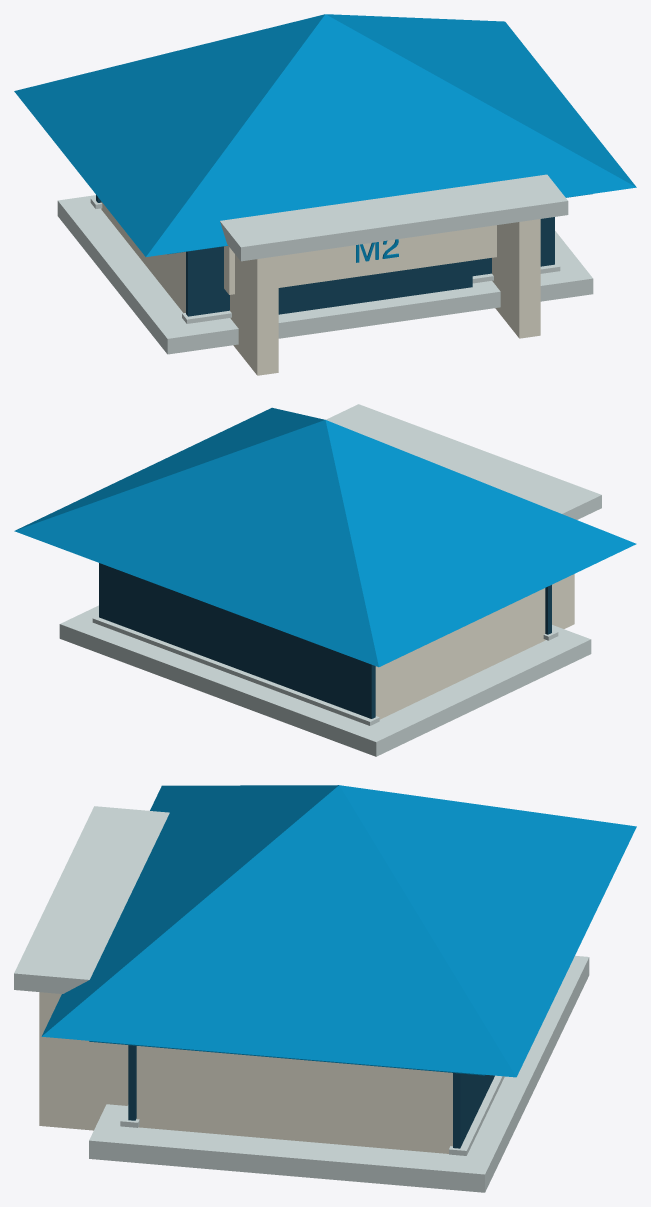
File: mahad-m2.glb
3 renders of one model, top to bottom at view 1: azimuth 30°, elevation 25°; view 2: azimuth 150°, elevation 25°; view 3: azimuth 270°, elevation 25°, orthographic. The views are drawn at different scales.
Visible parts, largest first — view 1: Mahad_M2_blue, Mahad_M2_trim, Mahad_M2_ivory, Mahad_M2_glass; view 2: Mahad_M2_blue, Mahad_M2_trim, Mahad_M2_glass, Mahad_M2_ivory; view 3: Mahad_M2_blue, Mahad_M2_trim, Mahad_M2_ivory, Mahad_M2_glass.
Part boxes in pixels (x1,y1,x2,y2): Mahad_M2_blue: (14, 14, 636, 262); Mahad_M2_trim: (57, 174, 593, 354); Mahad_M2_ivory: (101, 201, 540, 375); Mahad_M2_glass: (96, 195, 554, 316); Mahad_M2_blue: (14, 407, 636, 667); Mahad_M2_trim: (59, 404, 601, 756); Mahad_M2_glass: (99, 563, 551, 718); Mahad_M2_ivory: (375, 574, 574, 719); Mahad_M2_blue: (41, 785, 636, 1077); Mahad_M2_trim: (14, 806, 589, 1192); Mahad_M2_ivory: (39, 992, 452, 1153); Mahad_M2_glass: (128, 1045, 494, 1148).
Size of the model in its own units: 17.09 by 7.95 by 15.42.
